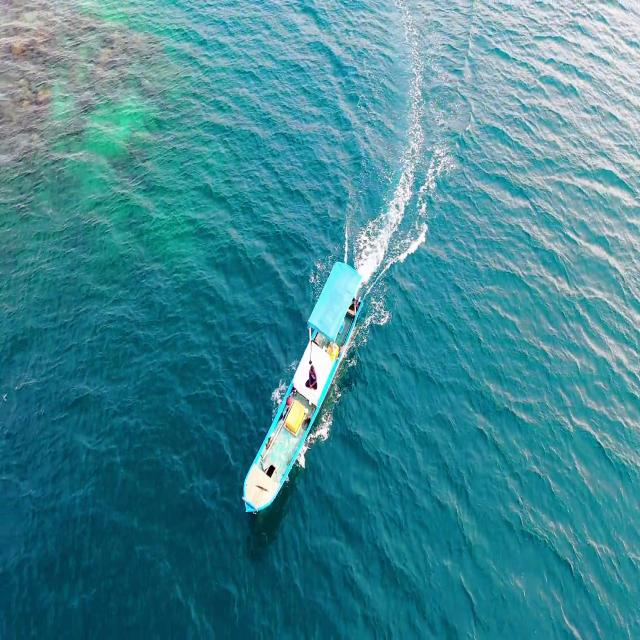ship: (238, 256, 364, 524)
